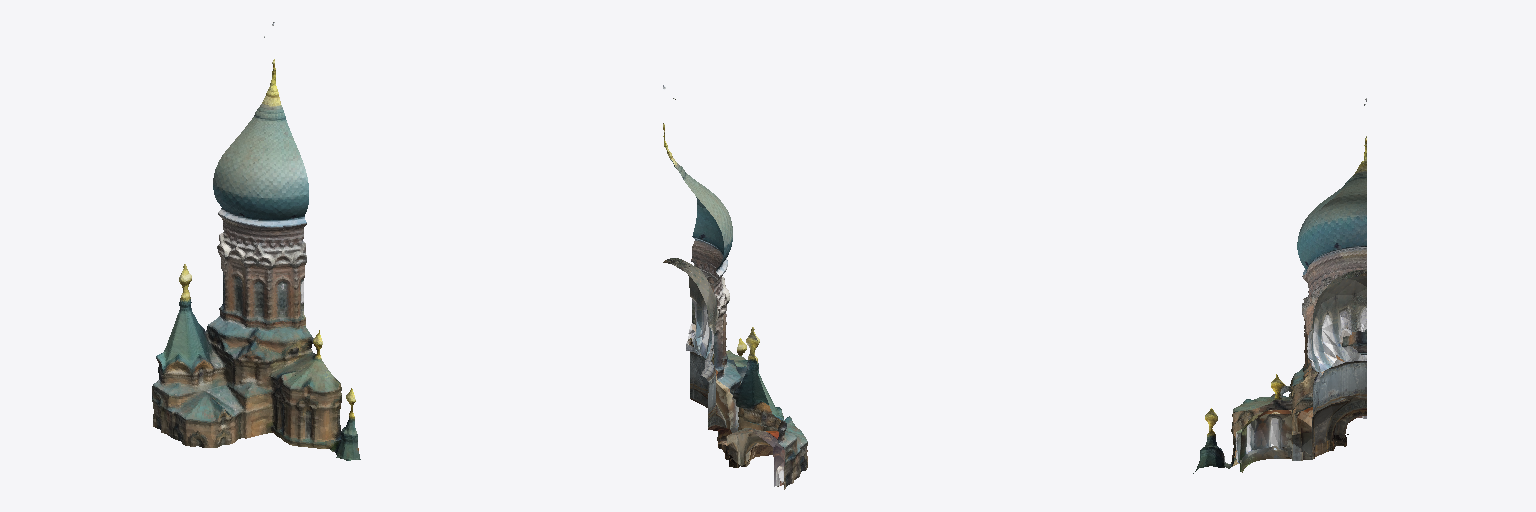
3 views of the same model, side by side, from view 1: azimuth 30°, elevation 25°; view 2: azimuth 150°, elevation 25°; view 3: azimuth 270°, elevation 25° (orthographic).
Parts seen in each view (by area): view 1: 2_TR; view 2: 2_TR; view 3: 2_TR.
Part boxes in pixels (left/top/right/bottom): 2_TR: left=152, top=22, right=360, bottom=460; 2_TR: left=663, top=85, right=807, bottom=489; 2_TR: left=1193, top=98, right=1366, bottom=473.
Bounding box in the file's own units: 72.63 × 210 × 88.03.
Materials: 4 (4 with a texture image).